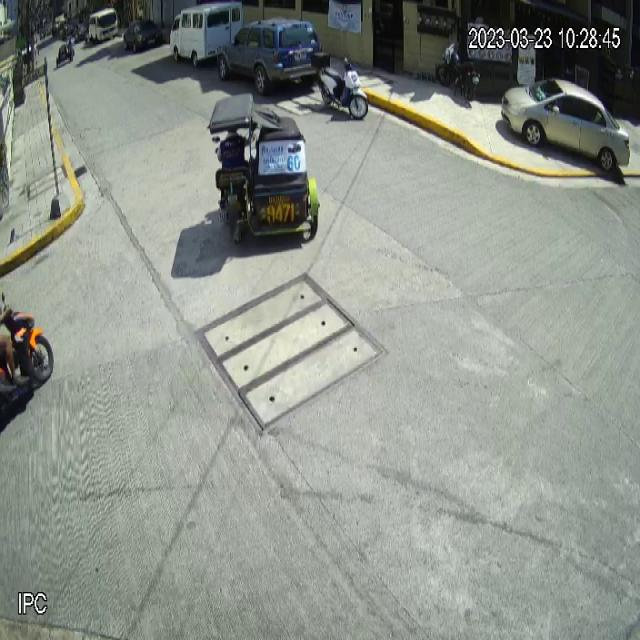Car: (501, 77, 631, 173), (216, 16, 323, 98)
Motorcycle: (311, 51, 368, 120)
Tricycle: (209, 92, 321, 245)
Van: (169, 0, 243, 68)
